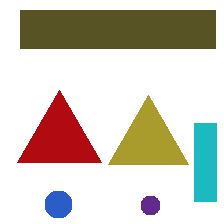circle: (45, 191, 71, 217), (141, 196, 159, 214)
rectangle: (20, 10, 215, 48), (194, 123, 216, 201)
triangle: (17, 90, 101, 162), (108, 95, 188, 164)
